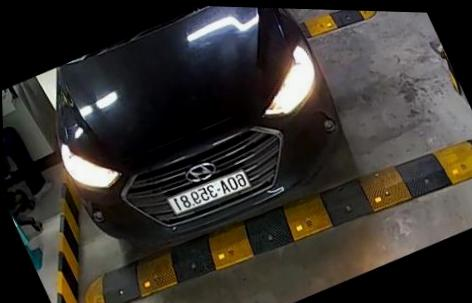License_Plate: (161, 161, 251, 224)
